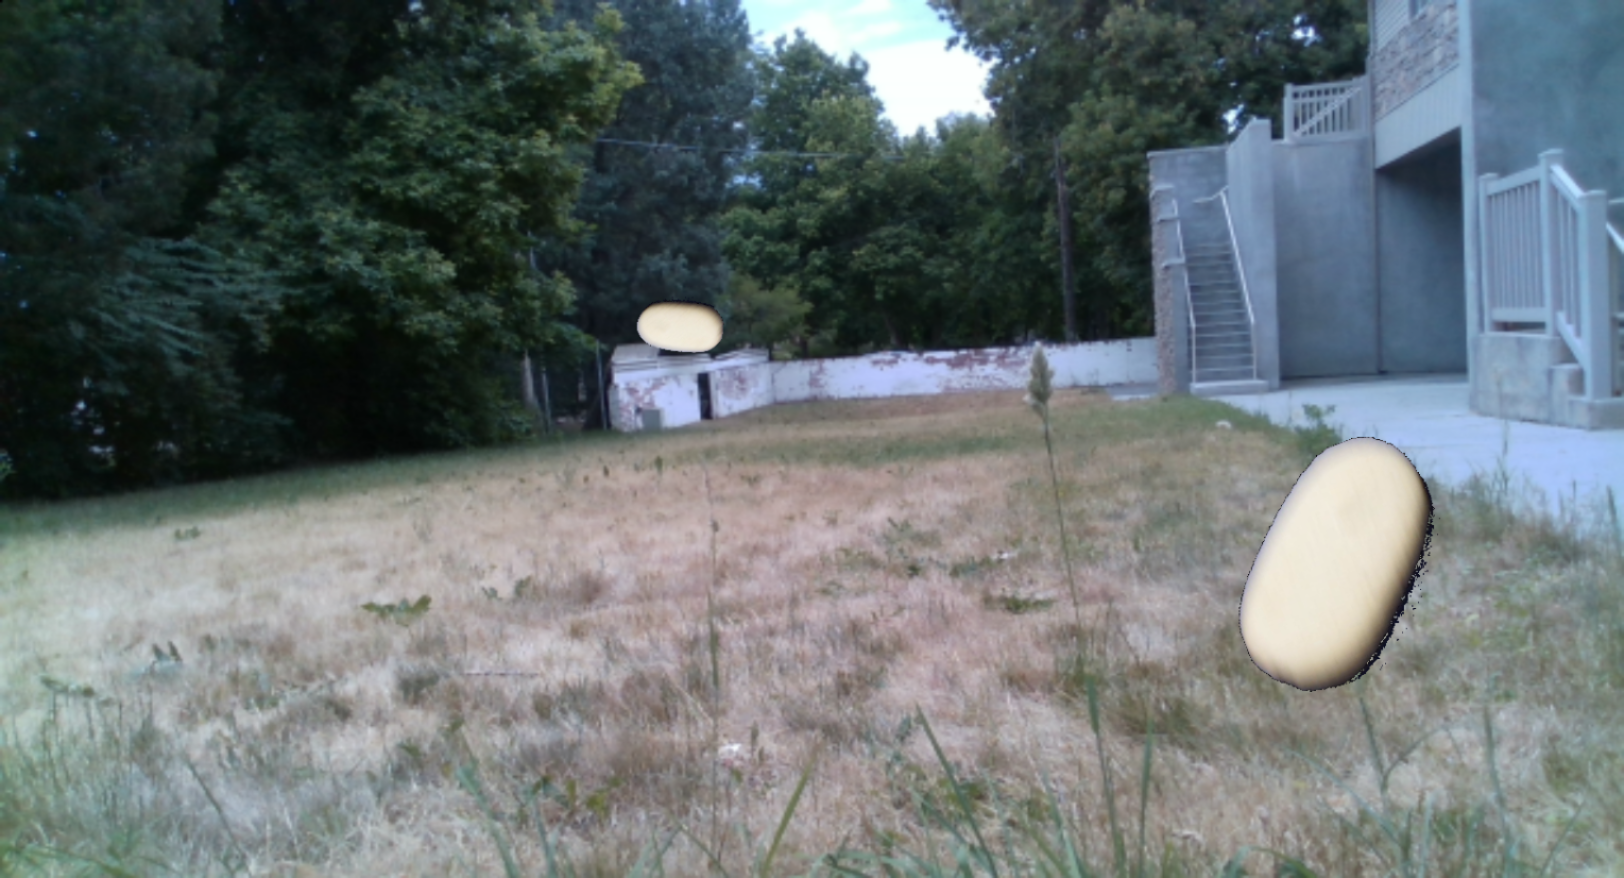test: (1189, 418, 1485, 713), (627, 272, 734, 380)
